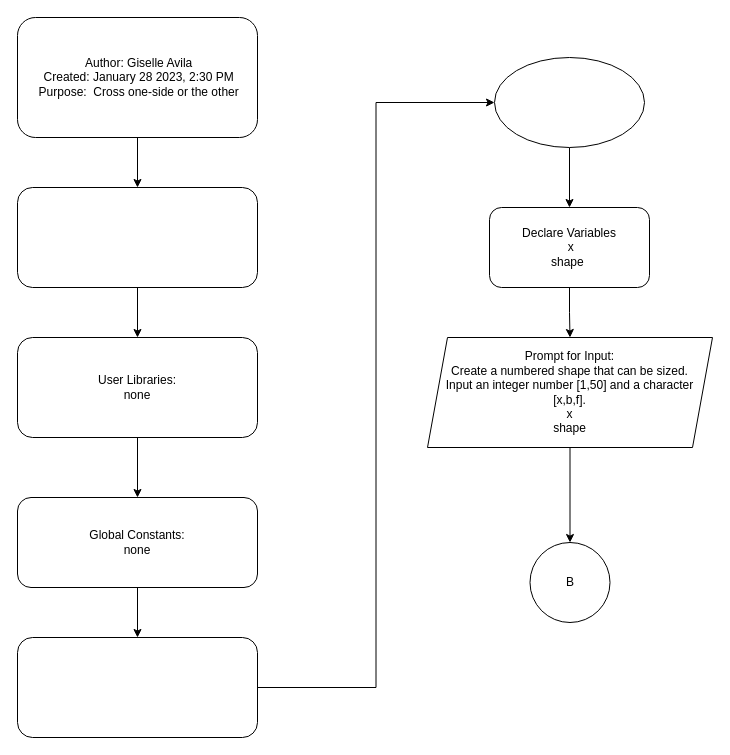
This 730x755 diagram has some shape labels left out. The shapes that lost their labels are listed below. From the top down, each one's box as (x1, y1, x2, y2) in pixels, then its label:
(494, 56, 644, 148): int main(int argc, char** argv)
(16, 186, 258, 288): System Libraries: I/O Objects Standard Namespace
(16, 636, 258, 738): Function Constants: none
